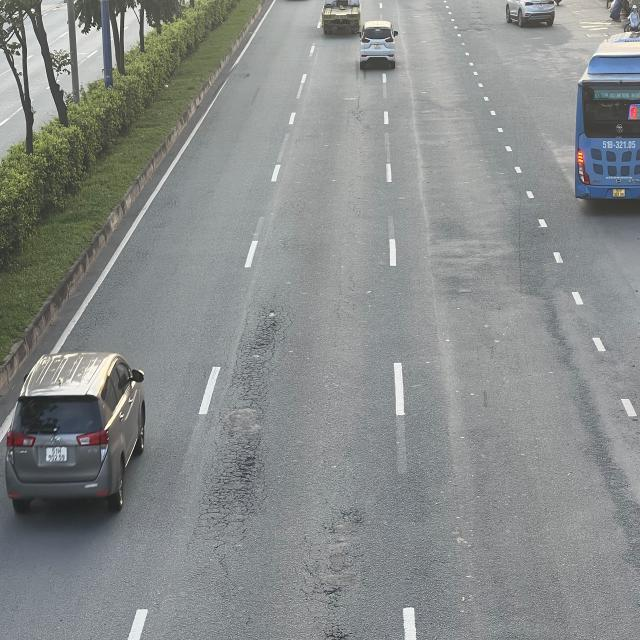car: (6, 349, 148, 512), (357, 21, 399, 68), (504, 0, 558, 25)
coach: (573, 34, 640, 202)
